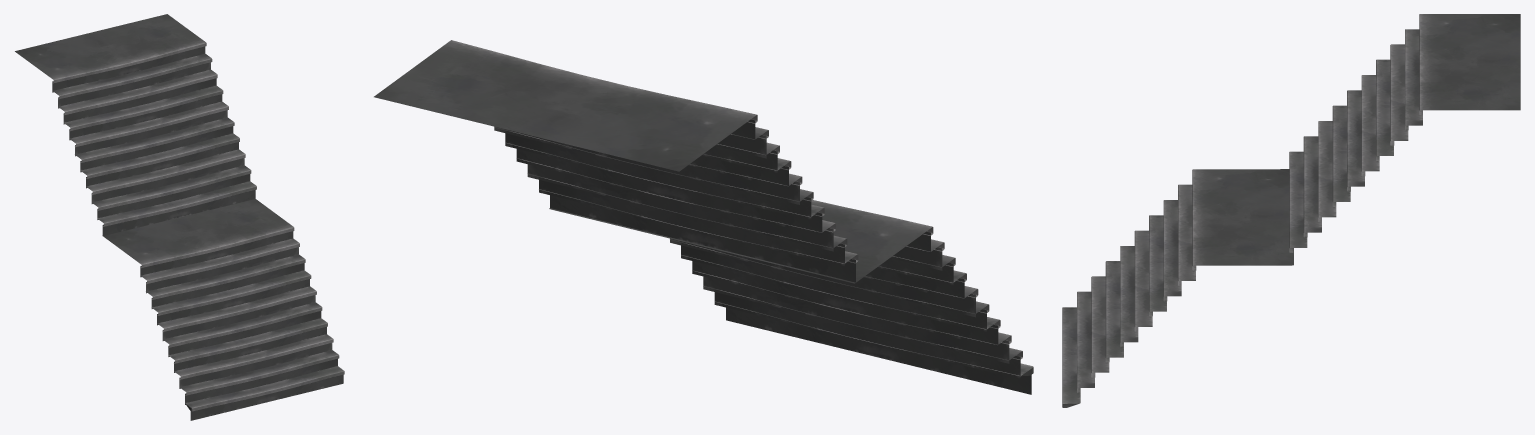
Rendered from Steps.fbx.
3 views of the same model, side by side, from view 1: azimuth 30°, elevation 25°; view 2: azimuth 150°, elevation 25°; view 3: azimuth 270°, elevation 25° (orthographic). The views are drawn at different scales.
Parts seen in each view (by area): view 1: Steps; view 2: Steps; view 3: Steps.
Boxes of the visible parts, bbox=[...] form: Steps: bbox=[15, 14, 344, 420]; Steps: bbox=[374, 40, 1033, 394]; Steps: bbox=[1062, 14, 1520, 407].
Bounding box in the file's own units: 200 × 301 × 403.
